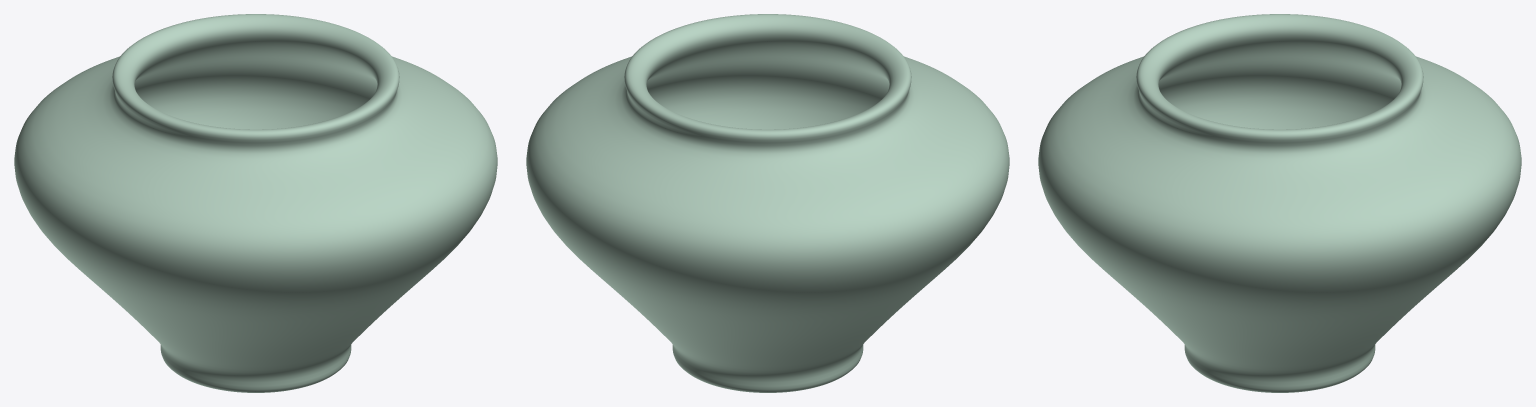
Rendered from exhibit_14.glb.
3 renders of one model, left to right at view 1: azimuth 30°, elevation 25°; view 2: azimuth 150°, elevation 25°; view 3: azimuth 270°, elevation 25°, orthographic.
Parts seen in each view (by area): view 1: Meiping; view 2: Meiping; view 3: Meiping.
Part boxes in pixels (left/top/right/bottom): Meiping: left=14, top=14, right=497, bottom=392; Meiping: left=526, top=14, right=1009, bottom=392; Meiping: left=1038, top=14, right=1521, bottom=392.
Size of the model in its own units: 1.72 by 1.12 by 1.72.
